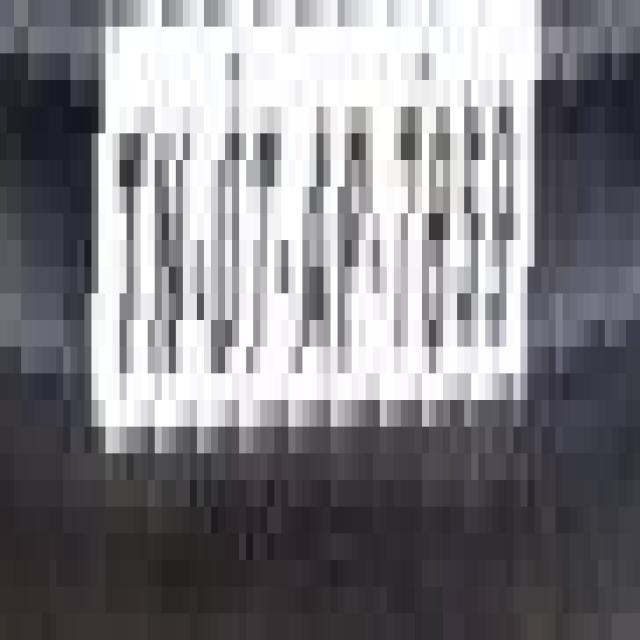license_plate: (7, 0, 598, 480)
